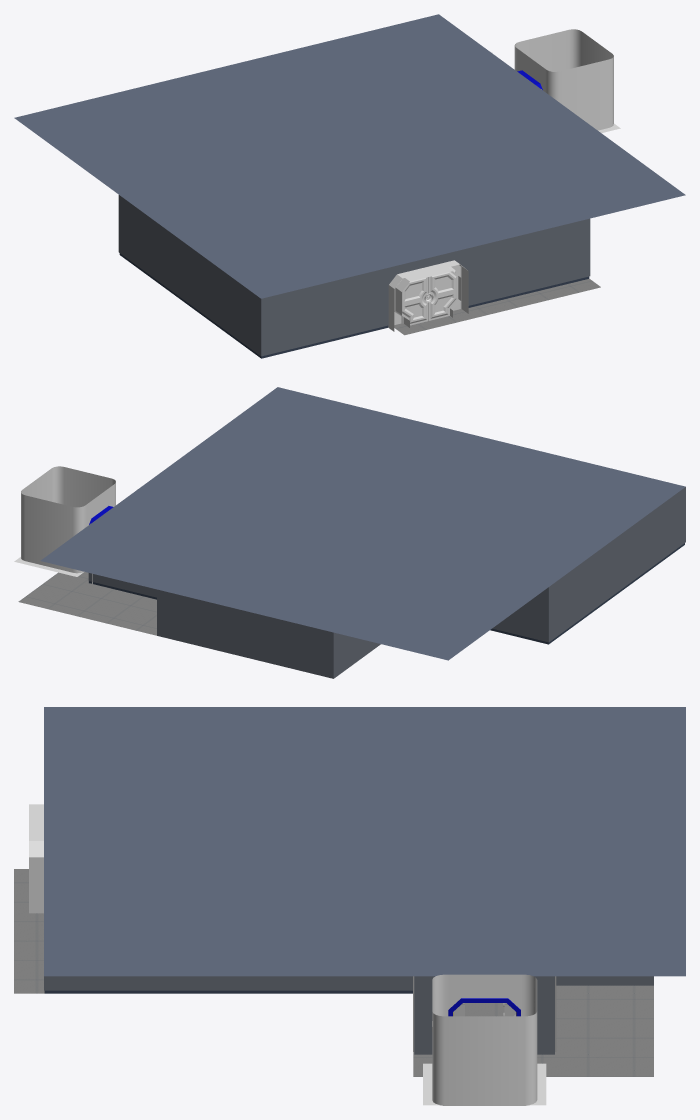
The model's file is vladikavkaz prison waiting room.fbx.
3 renders of one model, top to bottom at view 1: azimuth 30°, elevation 25°; view 2: azimuth 150°, elevation 25°; view 3: azimuth 270°, elevation 25°, orthographic. The views are drawn at different scales.
Parts seen in each view (by area): view 1: ceiling, waiting room wall, elevator walls, waiting room floor, door, door frame; view 2: ceiling, waiting room wall, control room inside wall, elevator walls, waiting room floor, control room wall; view 3: ceiling, waiting room floor, elevator walls, waiting room wall, elevator entrance wall, door frame, control room inside wall, elevator floor.
Boxes of the visible parts, bbox=[...] form: ceiling: bbox=[14, 14, 685, 298]; waiting room wall: bbox=[118, 195, 590, 358]; elevator walls: bbox=[514, 29, 613, 130]; waiting room floor: bbox=[348, 278, 600, 337]; door: bbox=[402, 271, 458, 325]; door frame: bbox=[388, 260, 468, 331]; ceiling: bbox=[40, 387, 685, 660]; waiting room wall: bbox=[490, 487, 685, 644]; control room inside wall: bbox=[157, 589, 380, 678]; elevator walls: bbox=[21, 466, 115, 573]; waiting room floor: bbox=[18, 572, 156, 635]; control room wall: bbox=[88, 573, 156, 599]; ceiling: bbox=[44, 707, 685, 976]; waiting room floor: bbox=[14, 869, 653, 1076]; elevator walls: bbox=[432, 974, 537, 1105]; waiting room wall: bbox=[44, 976, 412, 993]; elevator entrance wall: bbox=[414, 976, 554, 1054]; door frame: bbox=[29, 804, 43, 913]; control room inside wall: bbox=[556, 976, 653, 985]; elevator floor: bbox=[423, 1063, 546, 1105].
Size of the model in its own units: 3071 by 400 by 2721.
